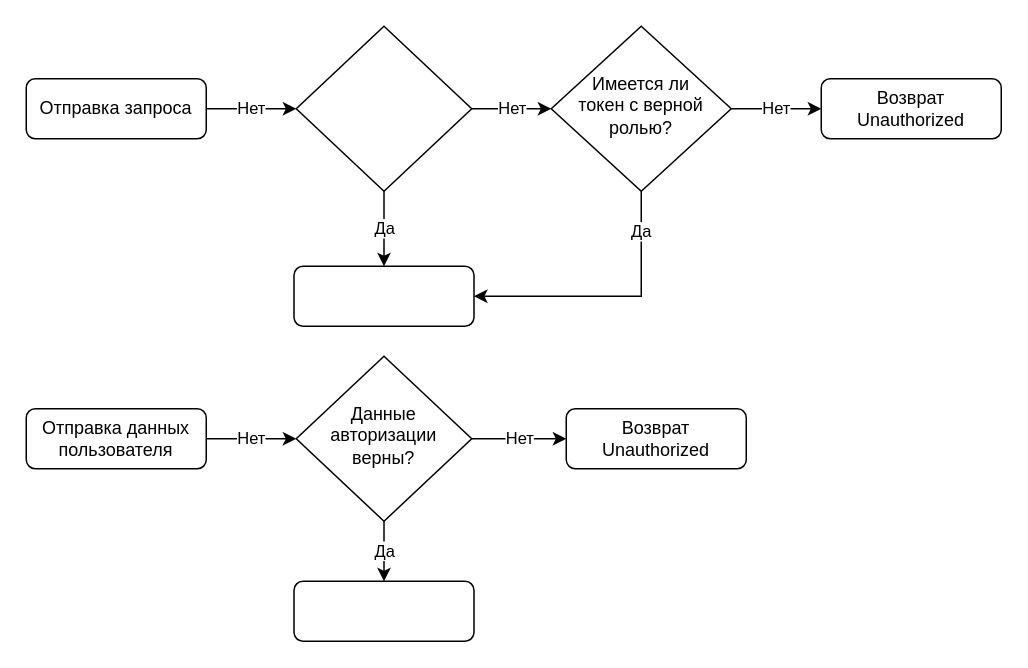
Image size: 1028x668. Some labels were removed from this diagram. The centre of each missing label's shape, as x and y in pixels:
Возврат JWT: (383,610)
Выполнить: (383,295)
Является ли метод анонимным?: (383,108)
